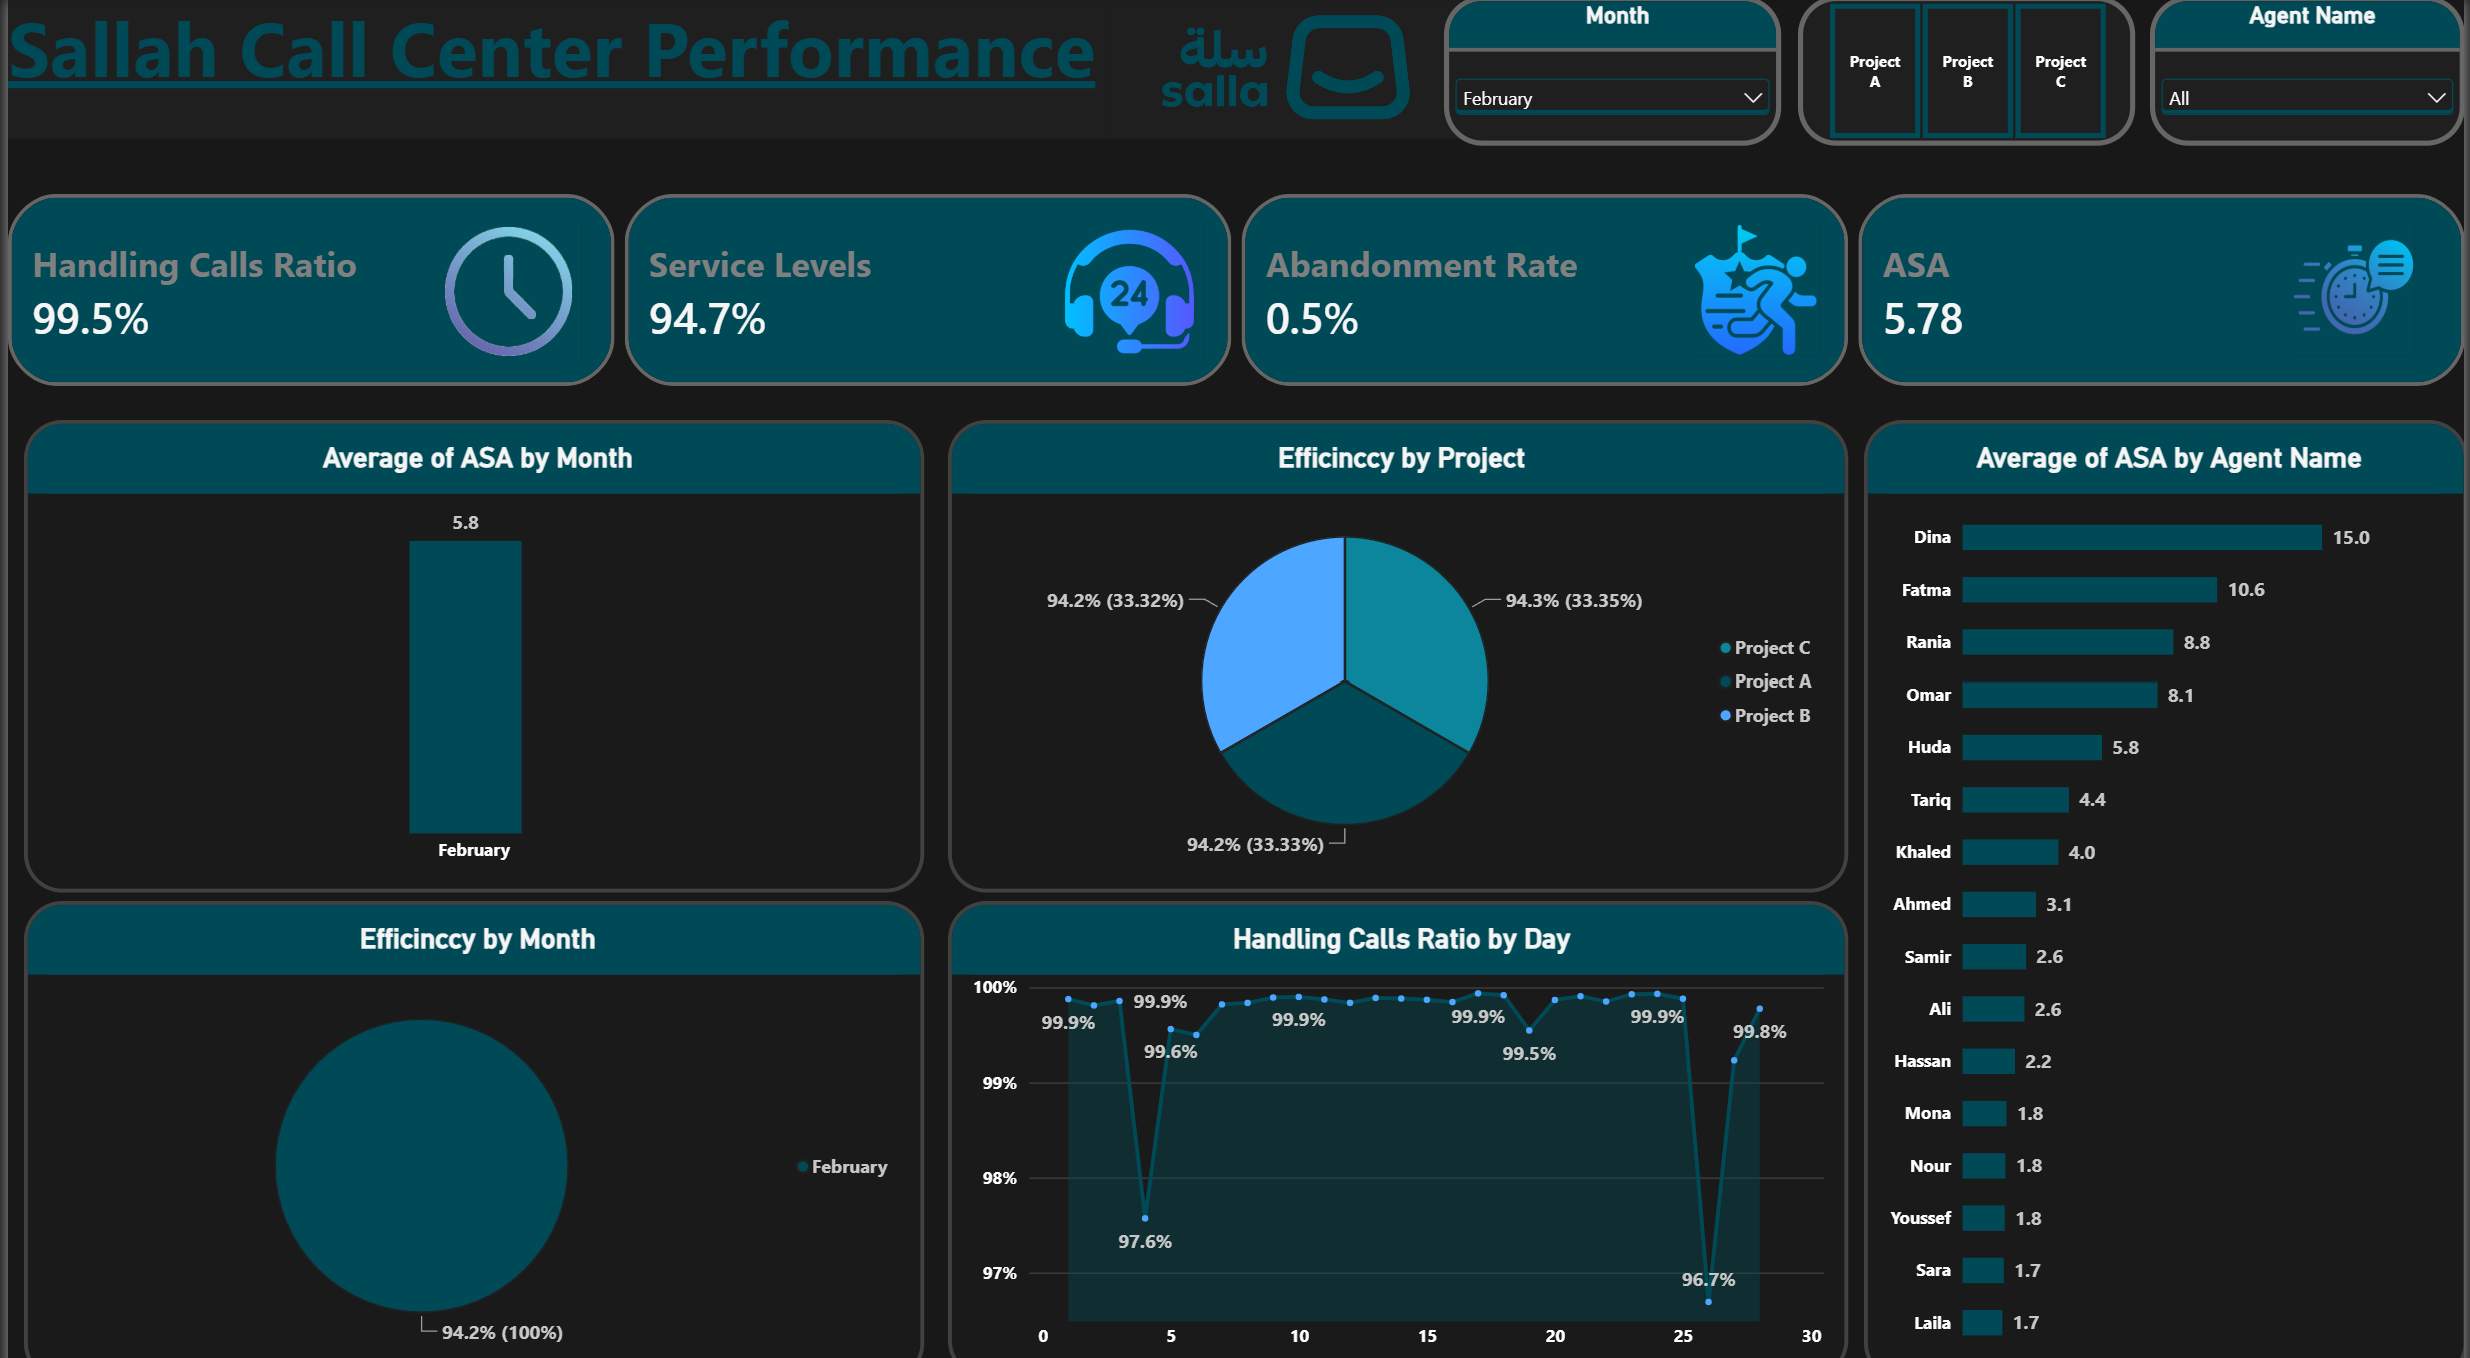

What the dashboard file says about the page in this screenshot:
{"tool":"powerbi","page":{"name":"Over view","canvas":[1920,1080],"ordinal":0},"visuals":[{"type":"image","box":[862.3,0,272.3,111.7],"z":0},{"type":"textbox","box":[0,0,862.3,111.7],"z":1000},{"type":"cardVisual","fields":{"Data":["salla.Handling Calls Ratio","salla.Servis Levels","salla.Abd Rate","Avg(salla.ASA)"]},"box":[0,155.3,1920,150.1],"z":2000},{"type":"columnChart","fields":{"Category":["salla.Date.Variation.Date Hierarchy.Month","salla.Day Name"],"Y":["Avg(salla.ASA)"]},"box":[12.2,331.6,703.4,368.3],"z":3000},{"type":"pieChart","fields":{"Category":["salla.Project"],"Y":["salla.Efficinccy"]},"box":[734.8,331.6,703.4,368.3],"z":4000},{"type":"pieChart","fields":{"Category":["salla.Date.Variation.Date Hierarchy.Month"],"Y":["salla.Efficinccy"]},"box":[12.2,706.9,703.4,375.3],"z":5000},{"type":"barChart","fields":{"Category":["salla.Agent Name"],"Y":["Avg(salla.ASA)"]},"box":[1450.5,331.6,471.3,750.5],"z":6000},{"type":"areaChart","fields":{"Category":["salla.Date.Variation.Date Hierarchy.Day"],"Y":["salla.Handling Calls Ratio"]},"box":[734.8,706.9,703.4,373.5],"z":7000},{"type":"slicer","title":"Month","fields":{"Values":["salla.Date.Variation.Date Hierarchy.Month"]},"box":[1122.3,0,263.6,116.9],"z":8000},{"type":"slicer","fields":{"Values":["salla.Project"]},"box":[1398.1,0,263.6,116.9],"z":9000},{"type":"slicer","title":"Agent Name","fields":{"Values":["salla.Agent Name"]},"box":[1673.9,0,246.1,116.9],"z":9001},{"type":"image","box":[335.1,172.8,113.5,115.2],"z":9002},{"type":"image","box":[818.6,172.8,115.2,115.2],"z":9003},{"type":"image","box":[1316.1,178,99.5,103],"z":9004},{"type":"image","box":[1785.6,172.8,96,108.2],"z":9005}]}

Visuals, with their boxes in screenshot pixels (x1, y1, x2, y2), scaled from the page's 1920x1080 canvas onto the 2470x1358 screenshot:
image: 1109:0:1460:140
textbox: 0:0:1109:140
cardVisual - salla.Handling Calls Ratio x salla.Servis Levels: 0:195:2469:384
columnChart - salla.Date.Variation.Date Hierarchy.Month x salla.Day Name: 16:417:921:880
pieChart - salla.Project x salla.Efficinccy: 945:417:1850:880
pieChart - salla.Date.Variation.Date Hierarchy.Month x salla.Efficinccy: 16:889:921:1357
barChart - salla.Agent Name x Avg(salla.ASA): 1866:417:2469:1357
areaChart - salla.Date.Variation.Date Hierarchy.Day x salla.Handling Calls Ratio: 945:889:1850:1357
"Month" slicer: 1444:0:1783:147
slicer - salla.Project: 1799:0:2138:147
"Agent Name" slicer: 2153:0:2469:147
image: 431:217:577:362
image: 1053:217:1201:362
image: 1693:224:1821:353
image: 2297:217:2421:353
